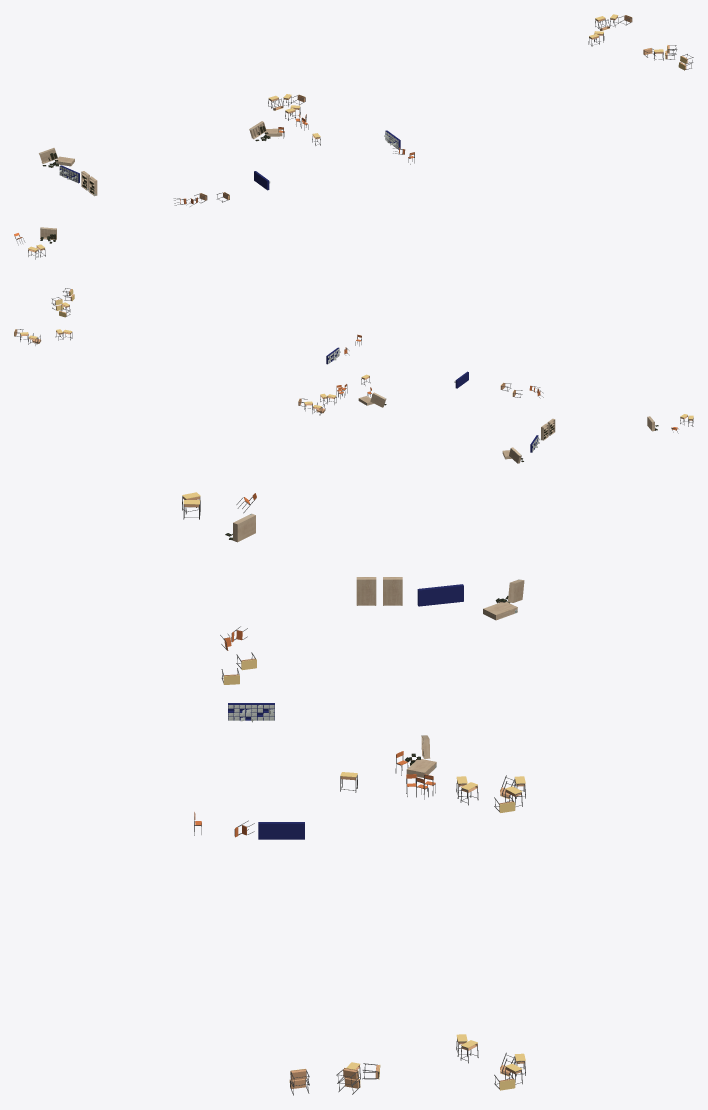
The model's file is obstaculos pasillos.fbx.
3 views of the same model, one above another, from view 1: azimuth 30°, elevation 25°; view 2: azimuth 150°, elevation 25°; view 3: azimuth 270°, elevation 25° (orthographic). The views are drawn at different scales.
Parts seen in each view (by area): view 1: Mesa N40.032, Mesa N40.031, Bookcase.014; view 2: Mesa N40.032, Mesa N40.031; view 3: Mesa N40.032, Mesa N40.031.
Part boxes in pixels (bbox=[...]): Mesa N40.032: bbox=[588, 14, 693, 70]; Mesa N40.031: bbox=[268, 94, 320, 145]; Bookcase.014: bbox=[39, 148, 74, 167]; Mesa N40.032: bbox=[14, 288, 74, 345]; Mesa N40.031: bbox=[298, 374, 370, 415]; Mesa N40.032: bbox=[289, 1034, 525, 1095]; Mesa N40.031: bbox=[340, 772, 525, 812].
Bounding box in the file's own units: 10725 × 231 × 2647.
10 materials, 2 textured.
